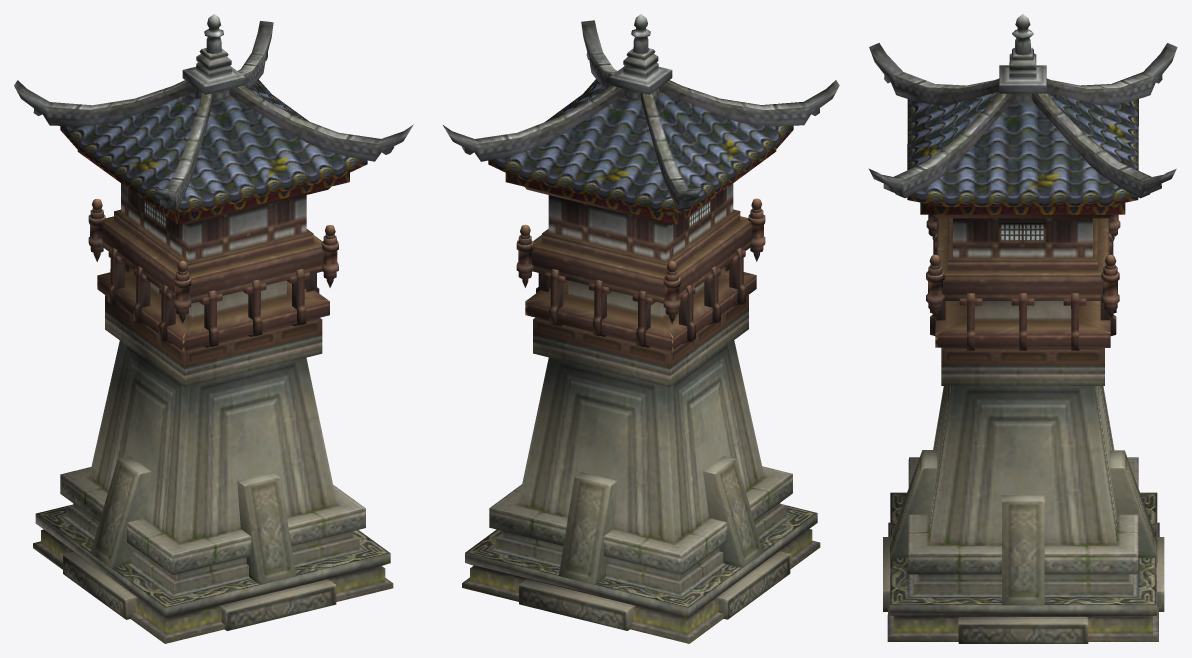
The model's file is S2_Build_XSC016.FBX.
3 views of the same model, side by side, from view 1: azimuth 30°, elevation 25°; view 2: azimuth 150°, elevation 25°; view 3: azimuth 270°, elevation 25° (orthographic). The views are drawn at different scales.
Parts seen in each view (by area): view 1: S2_Build_XSC016; view 2: S2_Build_XSC016; view 3: S2_Build_XSC016.
Boxes of the visible parts, left/top/right/bottom form: S2_Build_XSC016: left=14, top=14, right=413, bottom=643; S2_Build_XSC016: left=443, top=14, right=839, bottom=643; S2_Build_XSC016: left=868, top=14, right=1177, bottom=643.
Bounding box in the file's own units: 711 × 1450 × 711.
